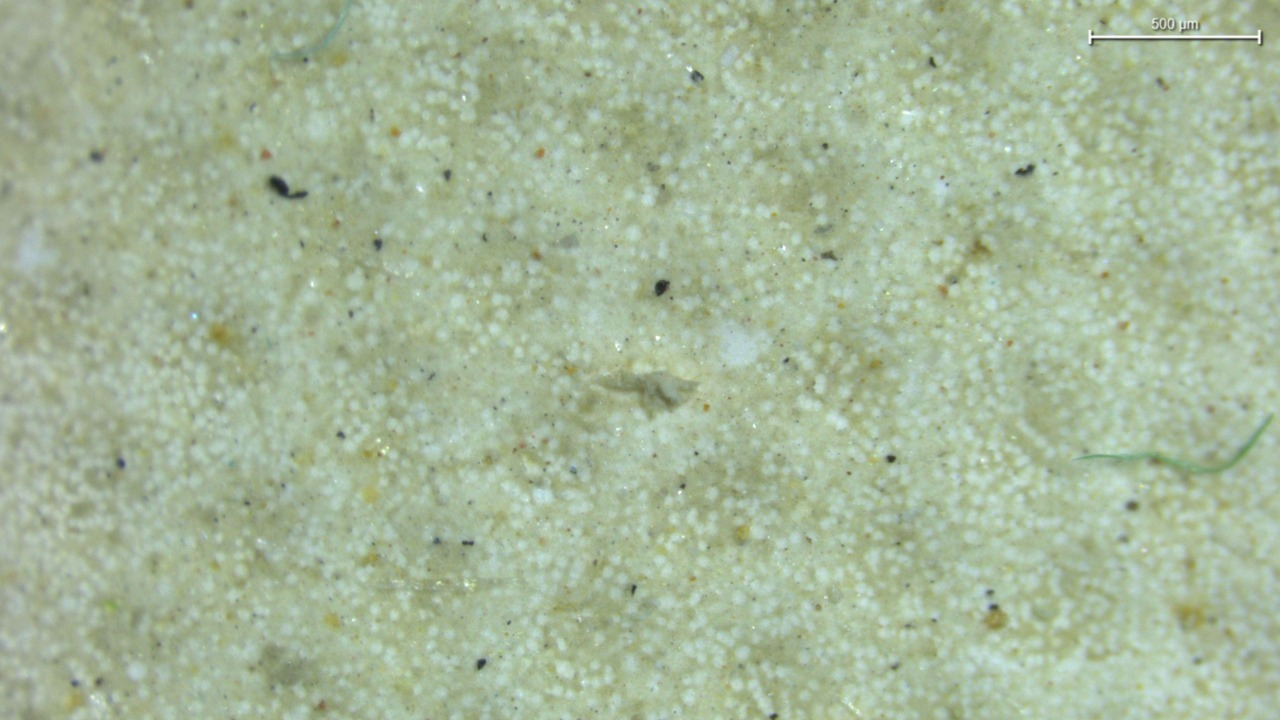microplastic_fragment: (597, 372, 699, 410)
